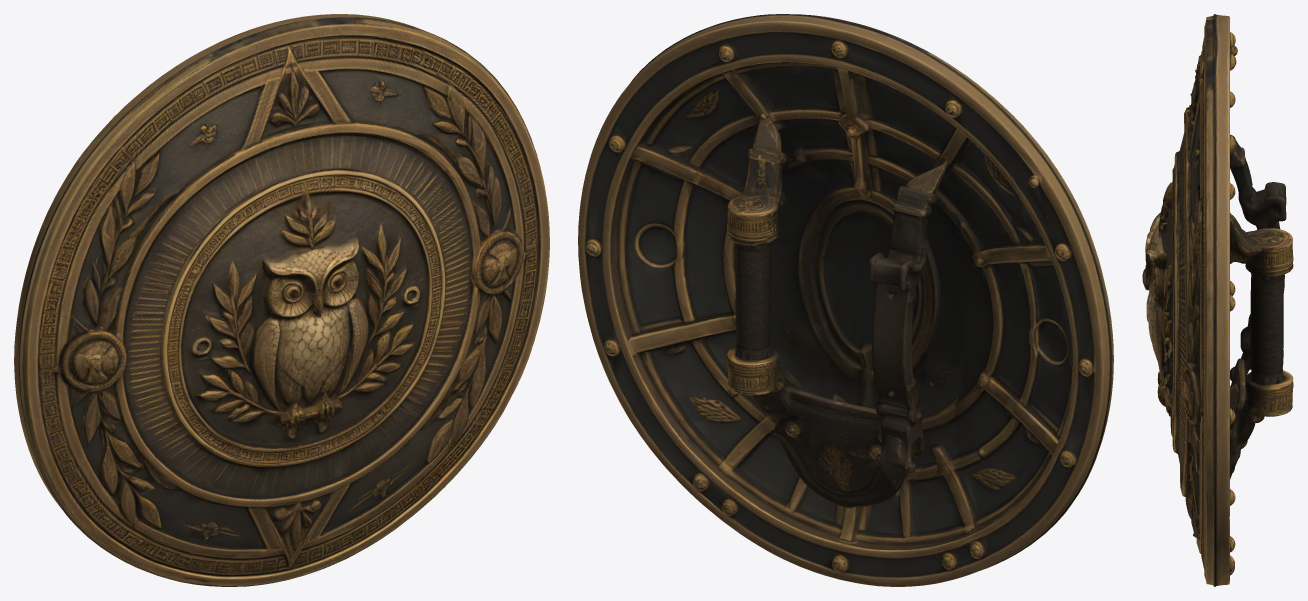
Rendered from athena-shield.optimized.glb.
3 views of the same model, side by side, from view 1: azimuth 30°, elevation 25°; view 2: azimuth 150°, elevation 25°; view 3: azimuth 270°, elevation 25° (orthographic). The views are drawn at different scales.
Visible parts, largest first — view 1: node_0; view 2: node_0; view 3: node_0.
Part boxes in pixels (left/top/right/bottom): node_0: left=14, top=14, right=549, bottom=586; node_0: left=578, top=14, right=1113, bottom=586; node_0: left=1142, top=14, right=1293, bottom=586.
Bounding box in the file's own units: 1.18 × 1.18 × 0.3126.
1 material, 1 textured.
